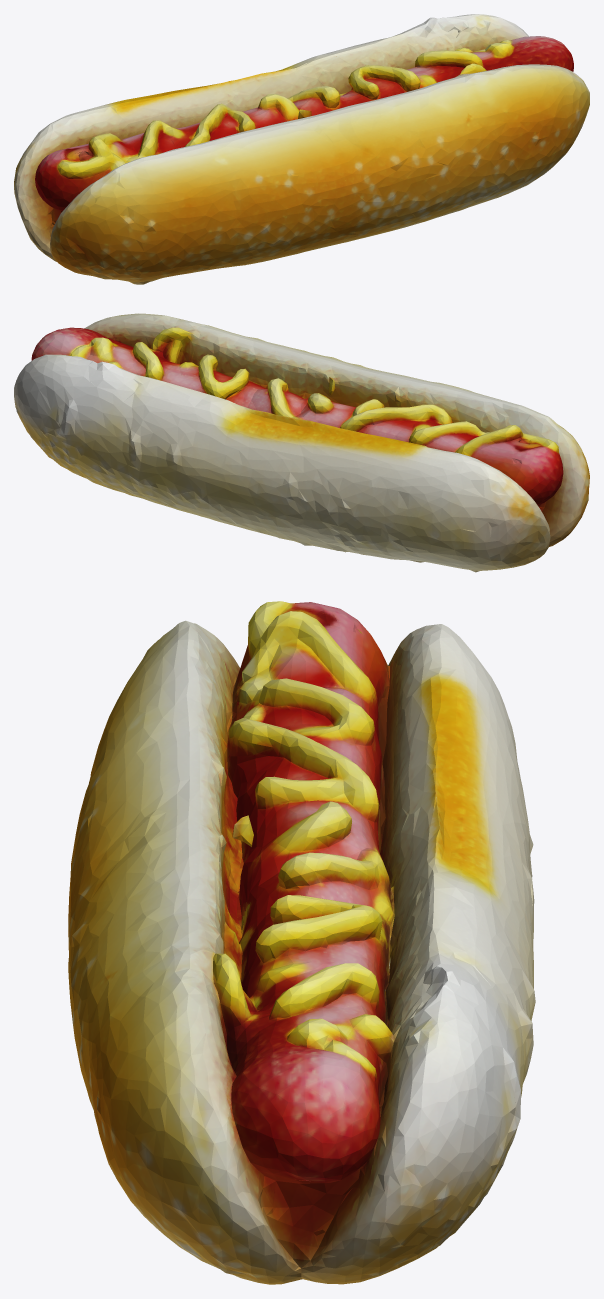
The model's file is sample (3).glb.
The picture shows the model from 3 angles, top to bottom: view 1: azimuth 30°, elevation 25°; view 2: azimuth 150°, elevation 25°; view 3: azimuth 270°, elevation 25°; orthographic projection. The views are drawn at different scales.
Parts seen in each view (by area): view 1: world; view 2: world; view 3: world.
Boxes of the visible parts, x1,y1,x2,y2 form: world: [14, 14, 589, 284]; world: [14, 313, 589, 572]; world: [68, 601, 535, 1284].
Size of the model in its own units: 0.9996 by 0.2578 by 0.3812.
Materials: 1 (1 with a texture image).
